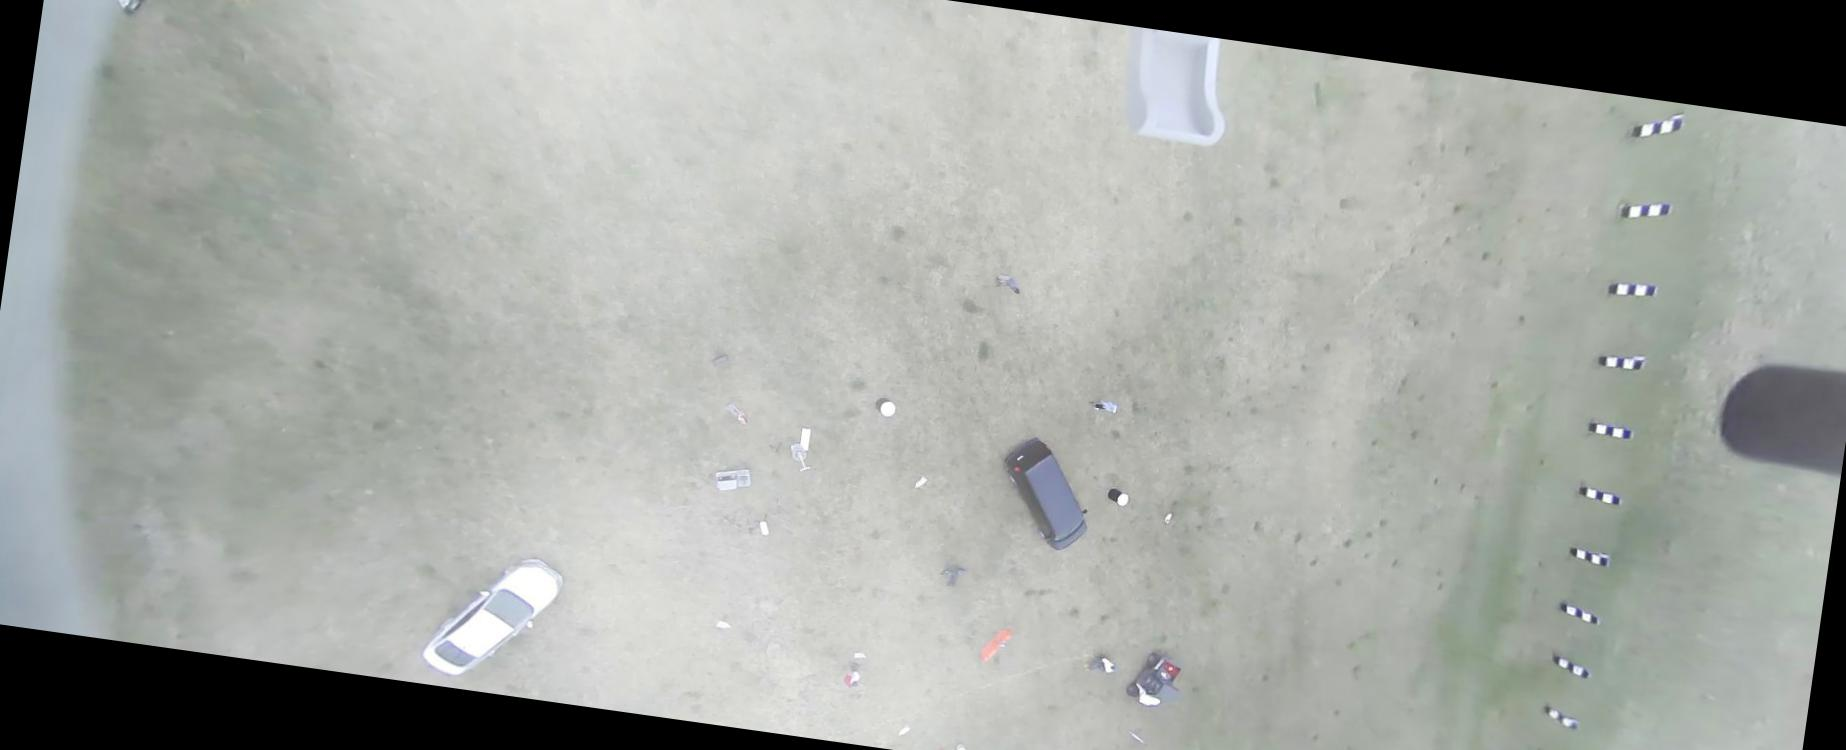vehicle: (418, 543, 567, 689), (991, 432, 1098, 555), (1124, 649, 1184, 710)
